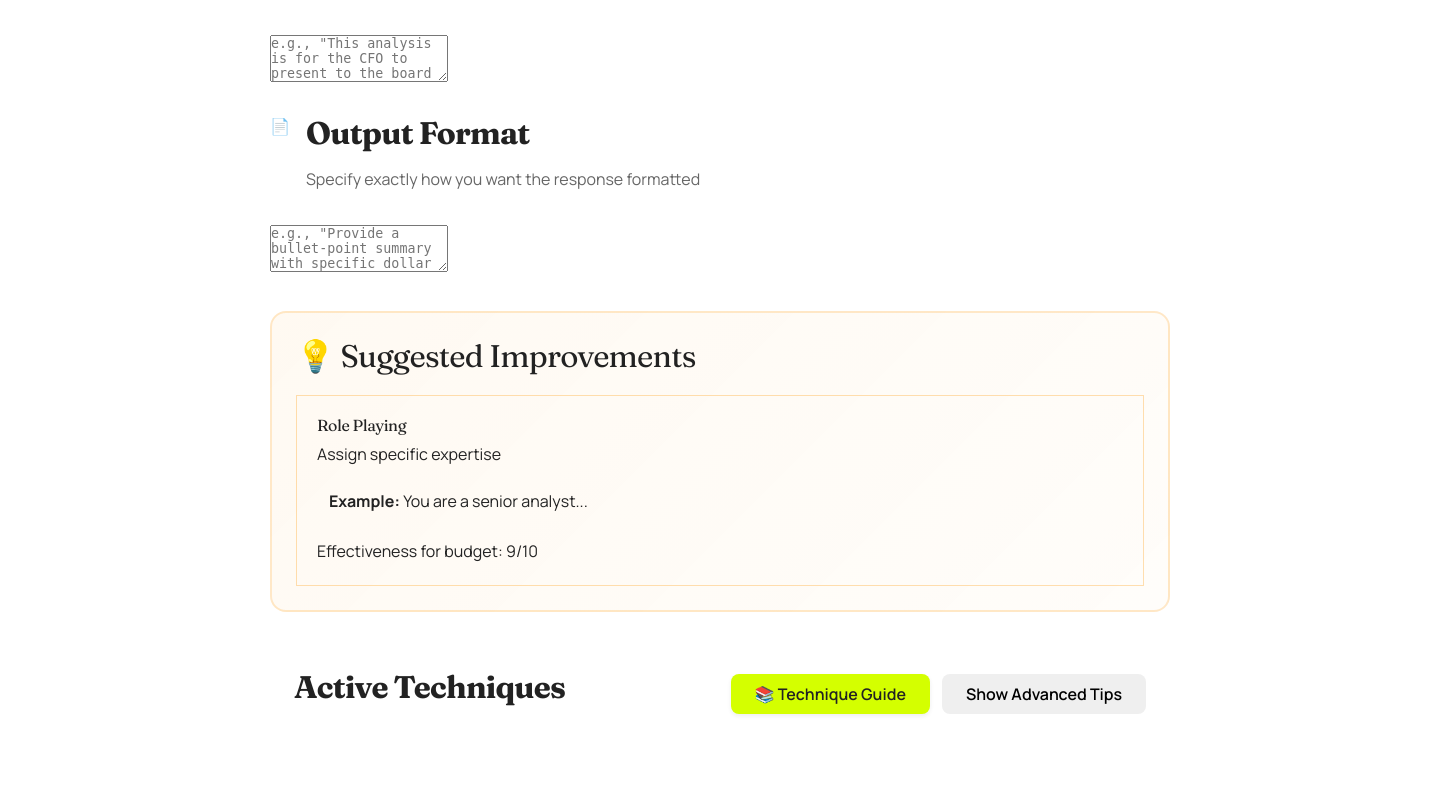
it: AdaptivePromptBuilder › opens technique guide when button is clicked
This screenshot has width=1440, height=809.
(page scrolled)
Click the button "📚 Technique Guide" at (830, 694), box [731, 674, 930, 714]
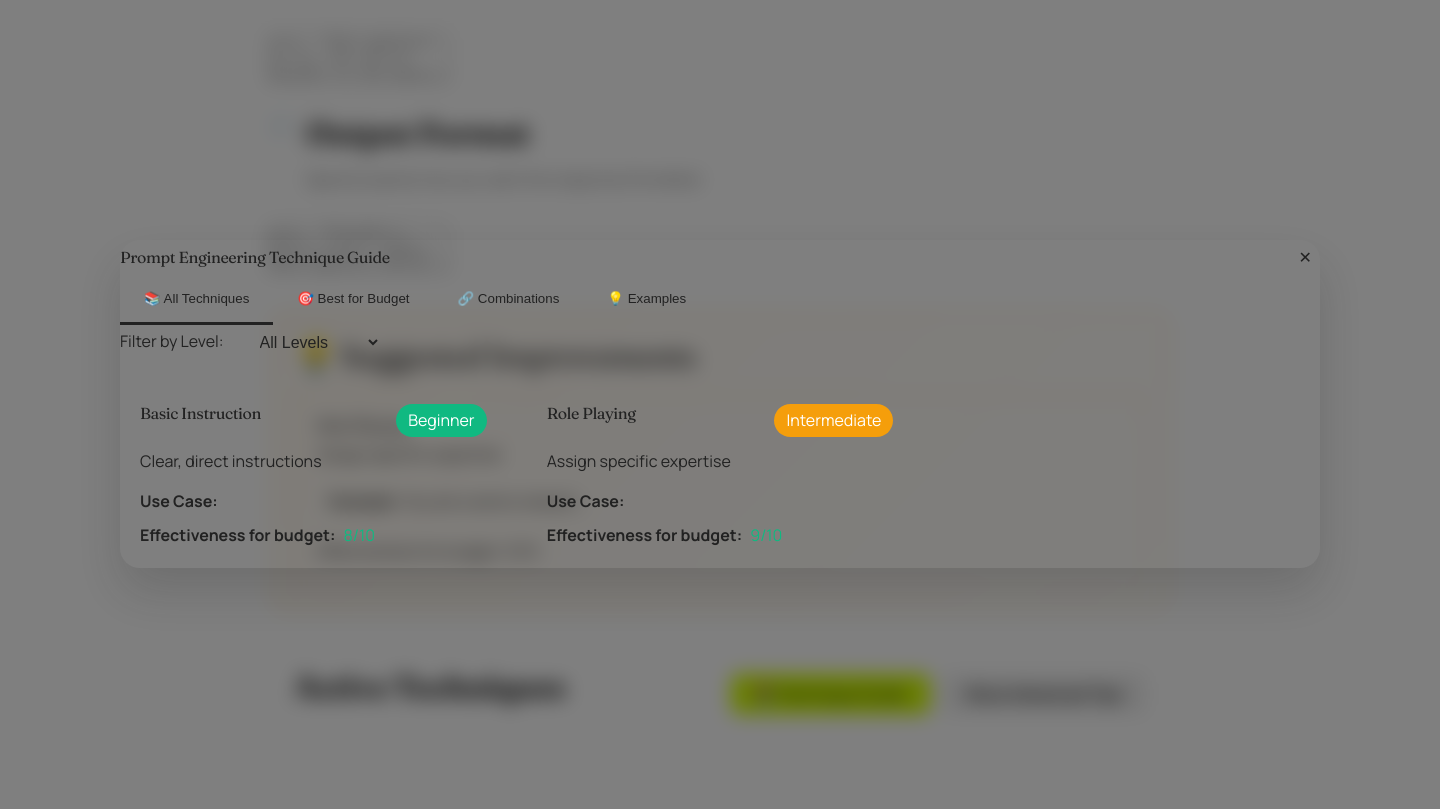
Expected: the heading "Prompt Engineering Technique Guide" is shown, [120, 248, 390, 267]
